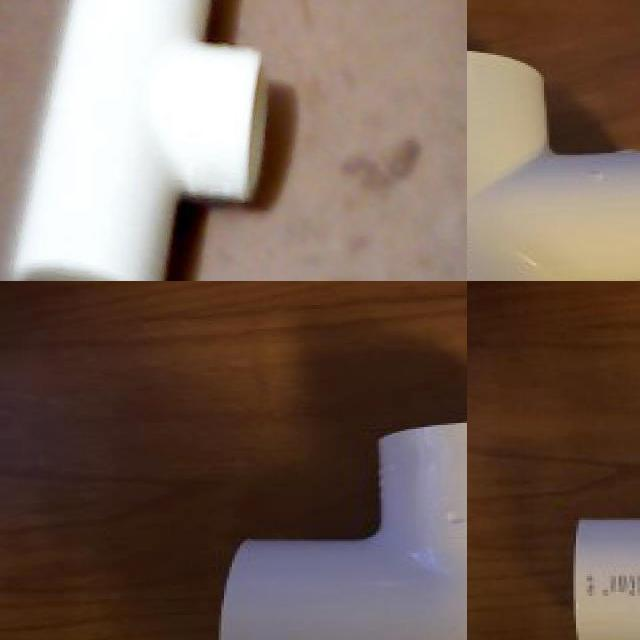L Joint: (216, 423, 467, 640)
T Joint: (9, 0, 270, 281), (467, 52, 640, 281)
